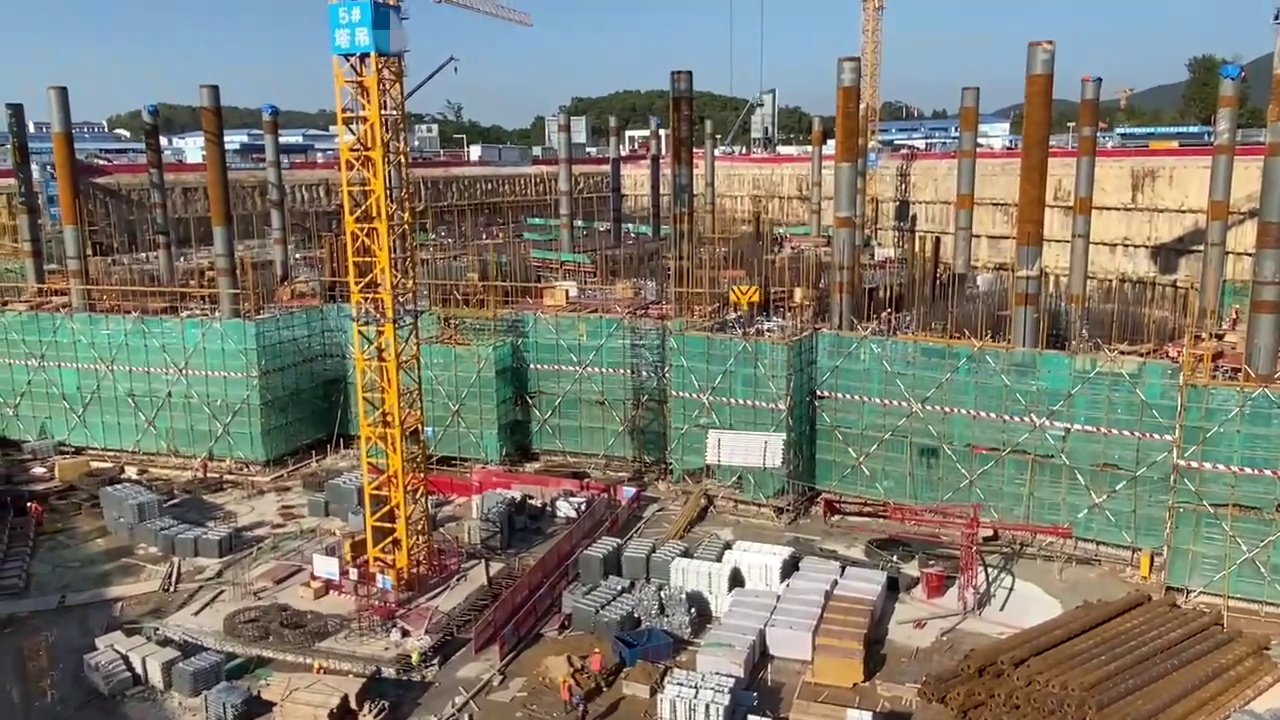board: (814, 594, 867, 678)
fence: (473, 466, 584, 494)
hook: (730, 282, 760, 306)
rebar: (911, 587, 1280, 714)
scaffold: (564, 580, 694, 636), (654, 665, 738, 720), (584, 533, 673, 584), (144, 513, 234, 557), (101, 482, 161, 546), (672, 557, 724, 620), (705, 429, 783, 469), (723, 538, 782, 587), (204, 681, 266, 720), (174, 648, 221, 695), (324, 472, 363, 528)
